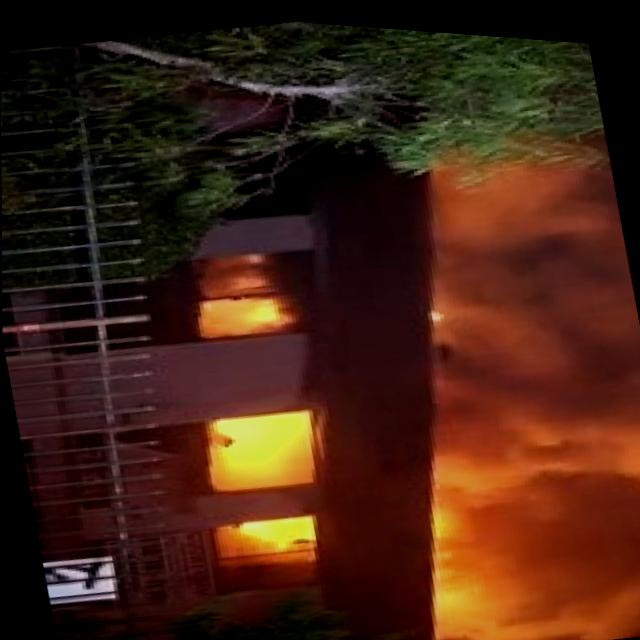smoke: (483, 205, 640, 608)
